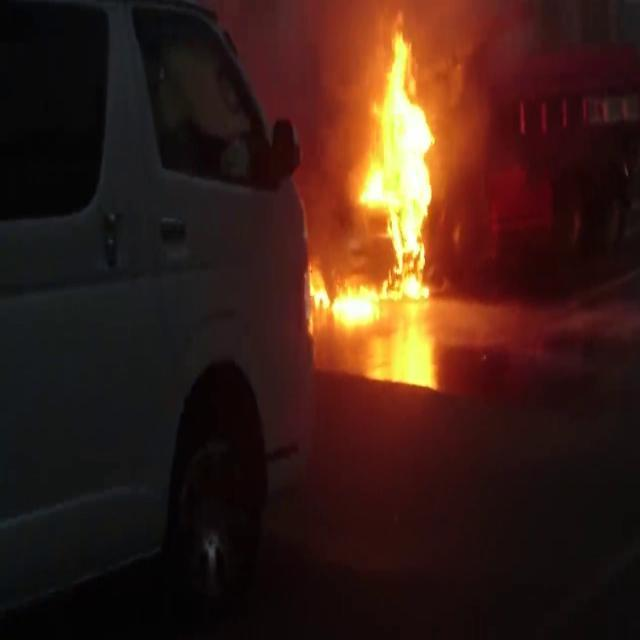Fire: (358, 18, 437, 250), (304, 263, 441, 330)
